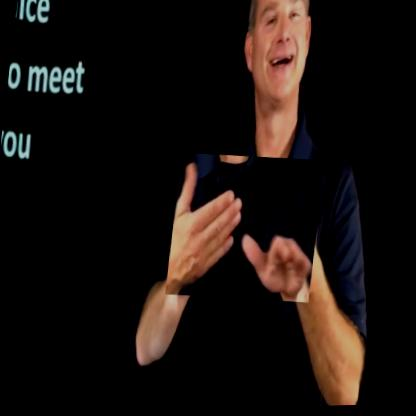NiceToMeetYou: (167, 150, 326, 308)
